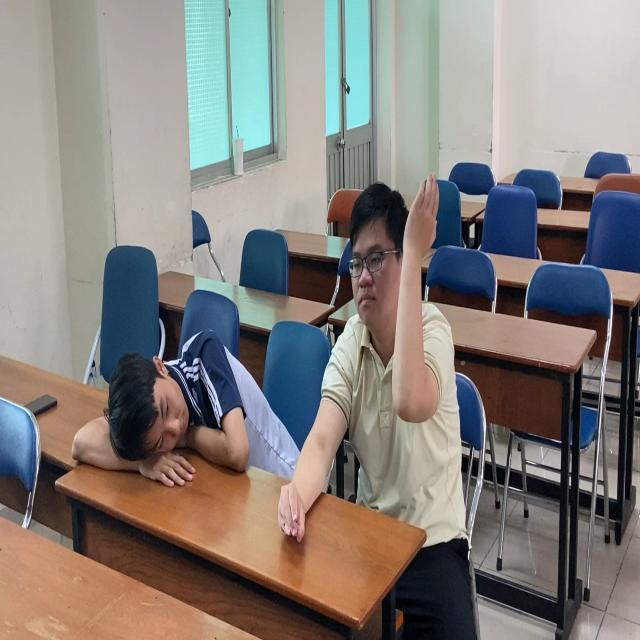raise_hand: (305, 177, 457, 532)
sleep: (72, 323, 301, 490)
